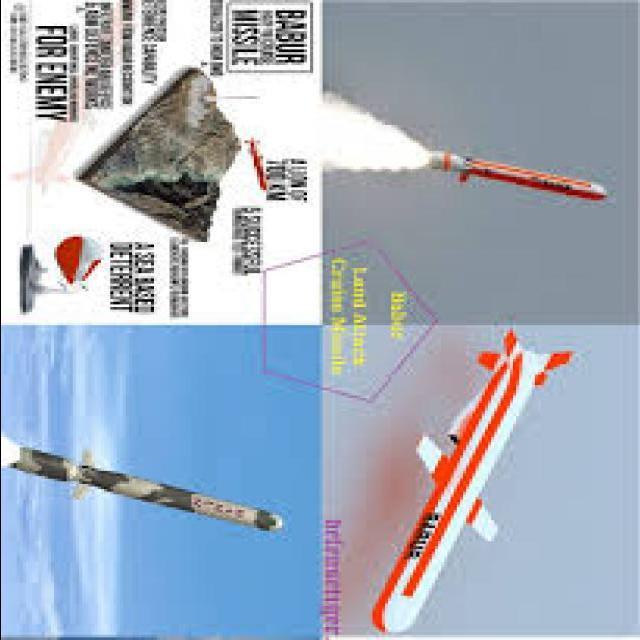Missile: (344, 328, 577, 640), (10, 453, 286, 535), (439, 149, 614, 203)
